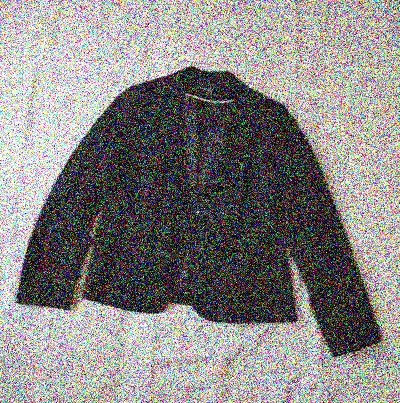Blazer: (22, 52, 393, 369)
